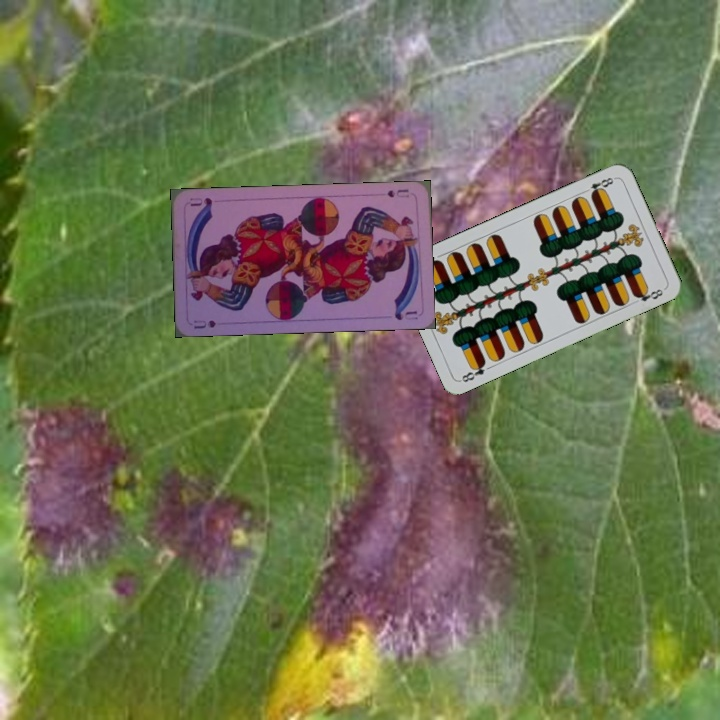E8: (579, 173, 618, 198), (457, 357, 488, 385)
SU: (189, 316, 218, 331), (383, 185, 411, 200)
